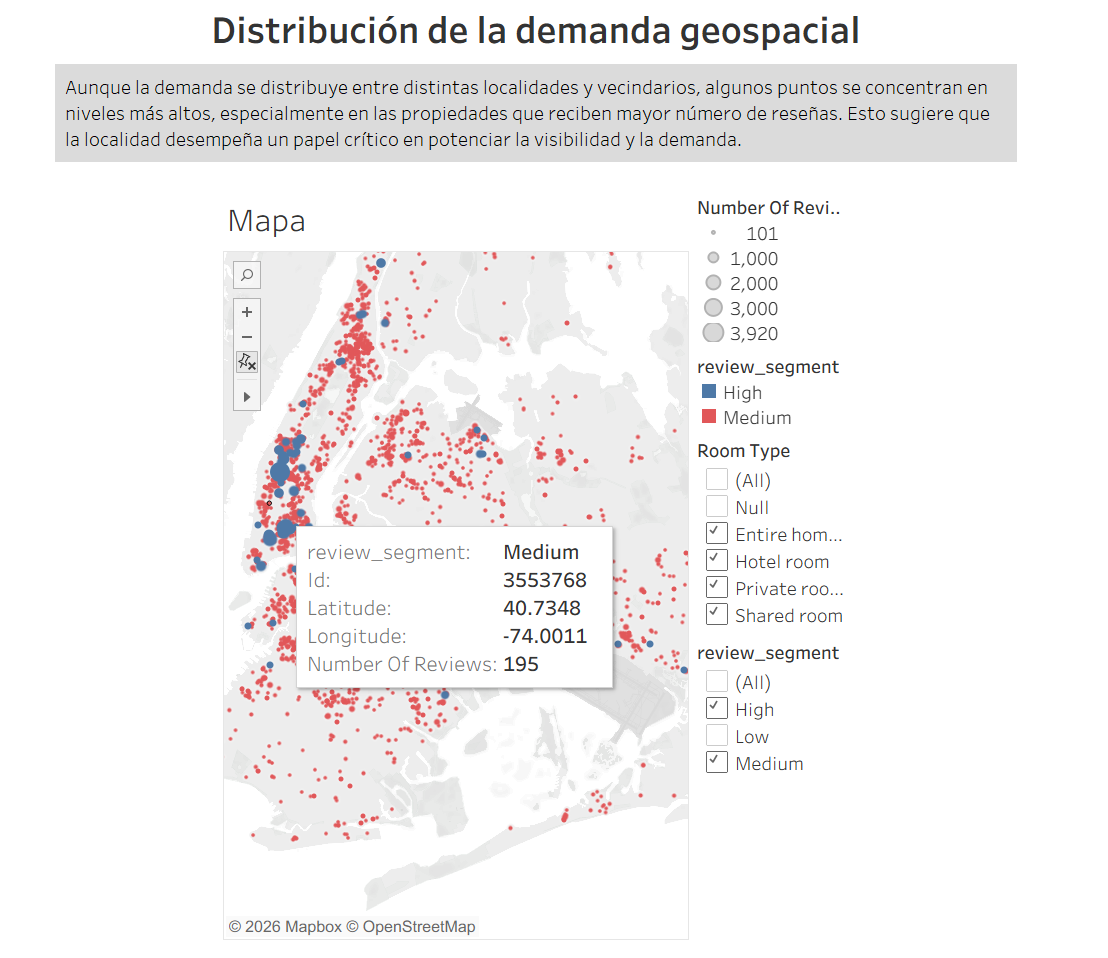

Layout of this report page (visuals, bound fields, positions):
{"tool":"tableau","page":{"name":"Geo Map","canvas":[650,860],"ordinal":0},"visuals":[{"type":"worksheet","title":"Mapa","mark":"Automatic","rows":["latitude"],"cols":["longitude"],"box":[8,9.2,474,841.6]},{"type":"legend","title":"Mapa","param":"[federated.1of129u1kxsz0z19y786w071qjns].[sum:number_of_reviews:qk]","box":[482,9.2,160,183.1]},{"type":"legend","title":"Mapa","param":"[federated.1of129u1kxsz0z19y786w071qjns].[none:Calculation_0794174645542916:nk]","box":[482,192.3,160,96.7]},{"type":"filter","title":"Mapa","param":"[federated.1mvaxrr1yueujs187xsv81xw8526].[none:room_type:nk]","box":[482,289,160,232.6]},{"type":"filter","title":"Mapa","param":"[federated.1of129u1kxsz0z19y786w071qjns].[none:Calculation_0794174645542916:nk]","box":[482,521.5,160,170.4]}]}

Visuals, with their boxes on the page's 650x860 design canvas (x1, y1, x2, y2). These are canvas units, not pixel positions in the 1108x958 screenshot, which may show the page scaled, cropped or inside an application window:
"Mapa" worksheet: [x1=8, y1=9, x2=482, y2=851]
"Mapa" legend: [x1=482, y1=9, x2=642, y2=192]
"Mapa" legend: [x1=482, y1=192, x2=642, y2=289]
"Mapa" filter: [x1=482, y1=289, x2=642, y2=522]
"Mapa" filter: [x1=482, y1=522, x2=642, y2=692]
